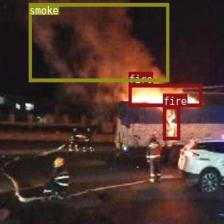fire: (128, 83, 201, 106), (162, 105, 180, 140)
smoke: (28, 2, 169, 82)
